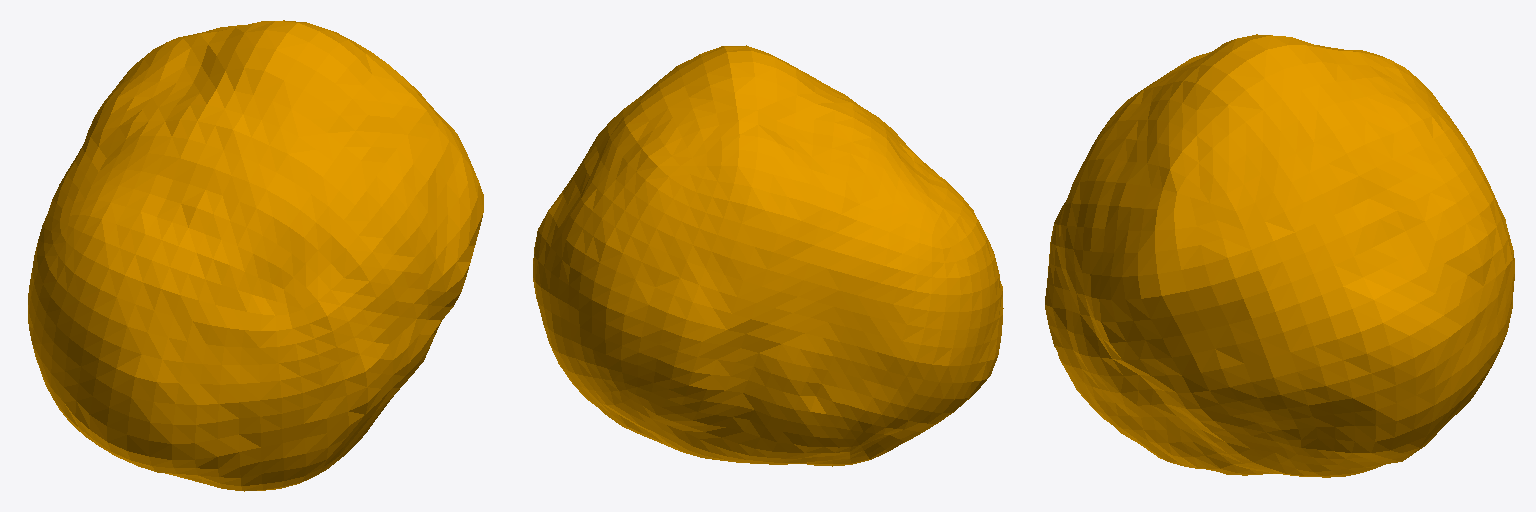
URDF robot description (rock):
<?xml version="1.0" ?>
<robot name="rock">
  <link name="rock">
    <inertial>
      <mass value="0.260"/>
      <origin rpy="0 0 0" xyz="0 0 0"/>
      <inertia ixx="0.000260" ixy="0" ixz="0" iyy="0.000260" iyz="0" izz="0.000260"/>
    </inertial>
    <collision name="rock_collision">
      <origin rpy="0 0 0" xyz="0 0 0"/>
      <geometry>
        <mesh filename="package://rocks/visual/236.dae" scale="1 1 1"/>
      </geometry>
    </collision>
    <visual name="rock_visual">
      <origin rpy="0 0 0" xyz="0 0 0"/>
      <geometry>
        <mesh filename="package://rocks/visual/236.dae" scale="1 1 1"/>
      </geometry>
    </visual>
  </link>
</robot>

--- Render facts (derived) ---
3 views of the same robot in one strip: view 1: azimuth 30°, elevation 25°; view 2: azimuth 150°, elevation 25°; view 3: azimuth 270°, elevation 25° (orthographic).
Robot: rock — 1 links, 0 joints (none); root link rock; default pose: every joint at zero.
Links seen in each view (by area): view 1: rock; view 2: rock; view 3: rock.
Boxes of the visible links, x1=… form: rock: x1=28, y1=20, x2=483, y2=491; rock: x1=533, y1=45, x2=1003, y2=466; rock: x1=1045, y1=34, x2=1514, y2=477.
Bounding box of the posed robot: 0.0739 × 0.0687 × 0.0698 m (x, y, z).
Meshes: 1 distinct files referenced, 1 mesh visuals loaded (1 Collada DAE).